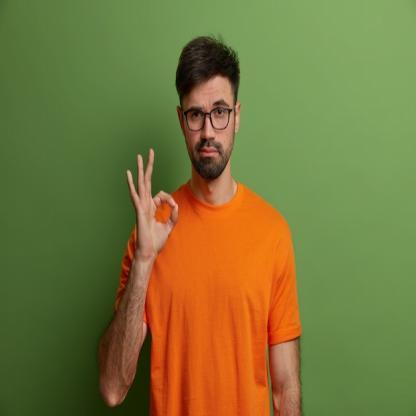ok: (124, 148, 181, 258)
